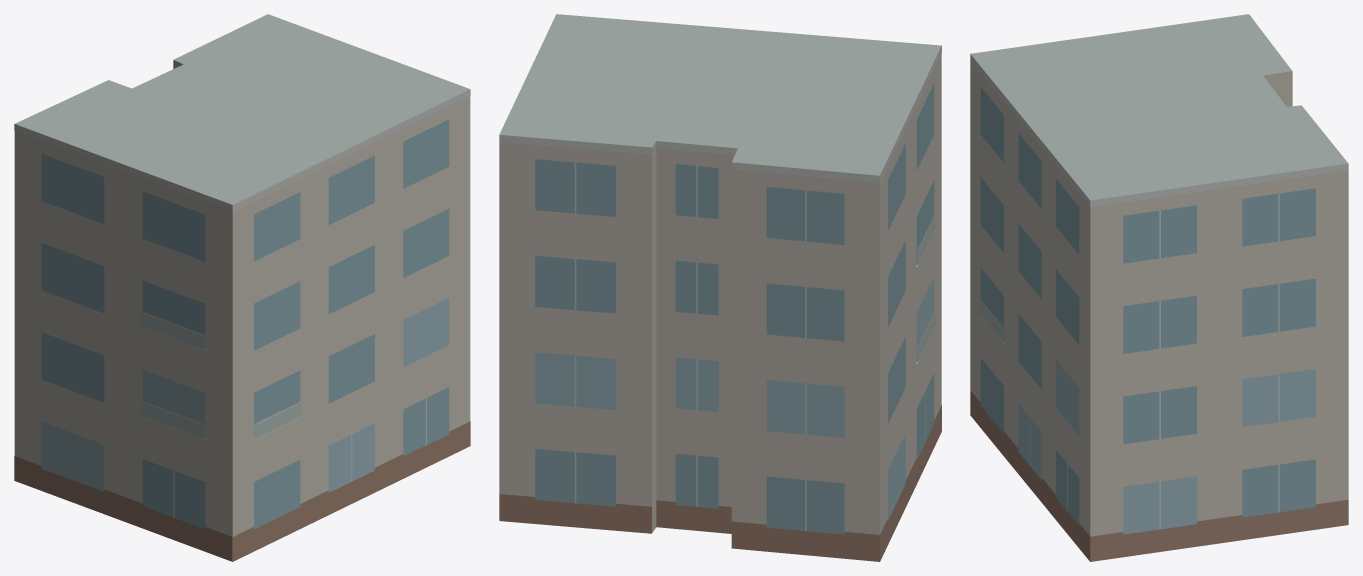
Rendered from survey-upis-32993102.glb.
The picture shows the model from 3 angles, left to right: view 1: azimuth 30°, elevation 25°; view 2: azimuth 150°, elevation 25°; view 3: azimuth 270°, elevation 25°; orthographic projection. The views are drawn at different scales.
Visible parts, largest first — view 1: survey-upis-32993102.tmp; view 2: survey-upis-32993102.tmp; view 3: survey-upis-32993102.tmp.
Boxes of the visible parts, x1,y1,x2,y2 form: survey-upis-32993102.tmp: (14, 14, 470, 561); survey-upis-32993102.tmp: (499, 14, 941, 561); survey-upis-32993102.tmp: (970, 14, 1348, 561).
Size of the model in its own units: 14.4 by 13 by 12.34.
